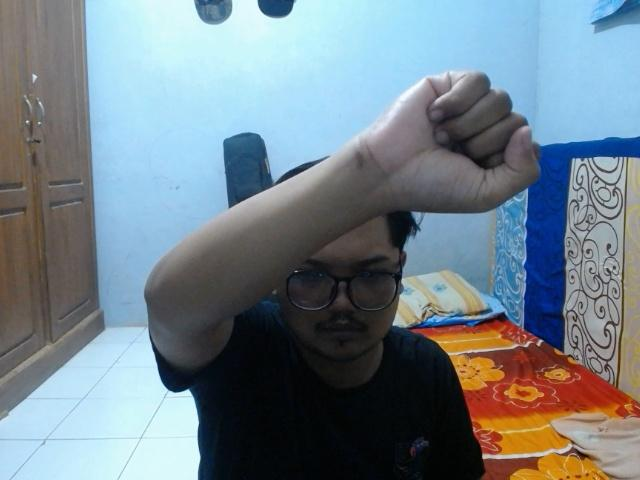Grab: (359, 64, 547, 219)
